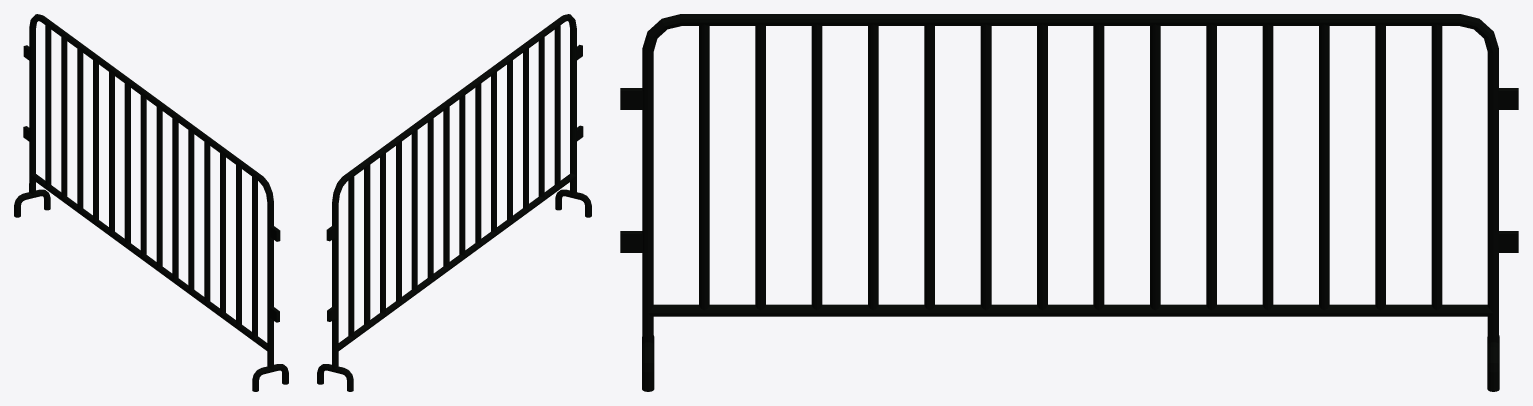
Rendered from Safety_Barrier_001.fbx.
3 views of the same model, side by side, from view 1: azimuth 30°, elevation 25°; view 2: azimuth 150°, elevation 25°; view 3: azimuth 270°, elevation 25° (orthographic). The views are drawn at different scales.
Visible parts, largest first — view 1: Safety Barrier.001; view 2: Safety Barrier.001; view 3: Safety Barrier.001.
Part boxes in pixels (x1,y1,x2,y2): Safety Barrier.001: (14, 14, 288, 391); Safety Barrier.001: (317, 14, 591, 391); Safety Barrier.001: (620, 14, 1518, 391).
Bounding box in the file's own units: 75.7 × 413 × 930.
